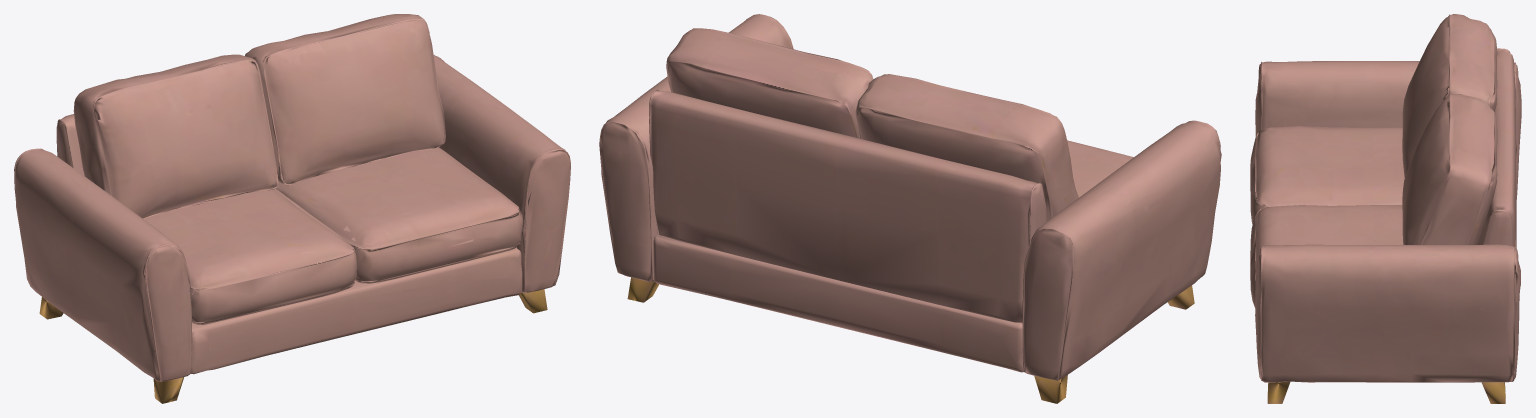
Rendered from loveseat_pink.glb.
3 views of the same model, side by side, from view 1: azimuth 30°, elevation 25°; view 2: azimuth 150°, elevation 25°; view 3: azimuth 270°, elevation 25° (orthographic). The views are drawn at different scales.
Parts seen in each view (by area): view 1: prop; view 2: prop; view 3: prop.
Boxes of the visible parts, bbox=[...] form: prop: bbox=[14, 14, 570, 403]; prop: bbox=[599, 14, 1221, 403]; prop: bbox=[1250, 14, 1521, 403].
Bounding box in the file's own units: 1.55 × 0.7961 × 0.8684.
1 material, 1 textured.
